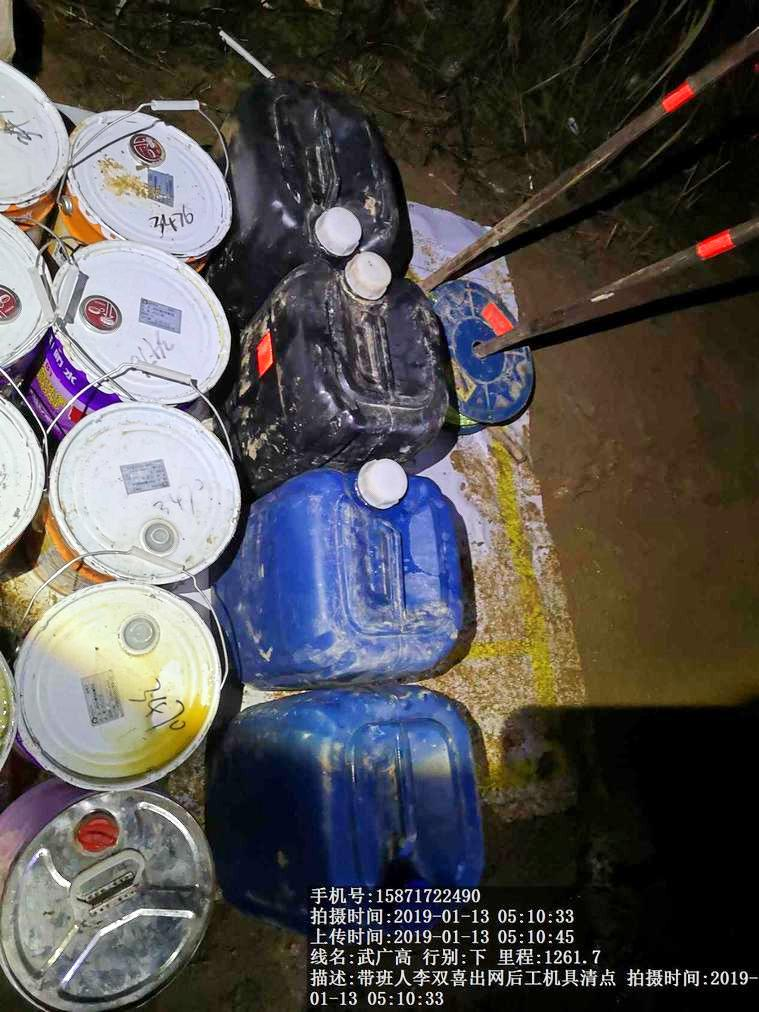SLT: (240, 461, 487, 681), (227, 688, 494, 886), (238, 255, 463, 459), (223, 72, 429, 251)
